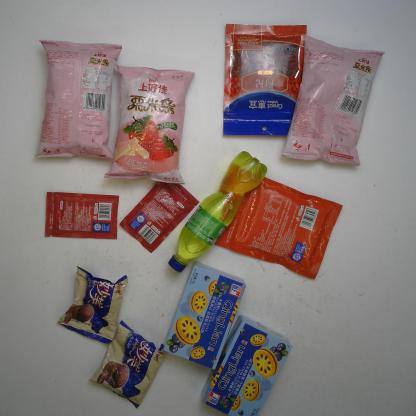Dessert: (157, 264, 247, 369), (199, 319, 291, 415), (89, 322, 165, 407), (58, 266, 130, 342)
Dried Fruit: (210, 164, 343, 280), (222, 21, 308, 137)
Drink: (169, 153, 272, 273)
Puffed Food: (284, 35, 386, 166), (104, 63, 194, 184), (34, 39, 121, 162)
Seasoner: (122, 180, 200, 250), (42, 192, 120, 240)
